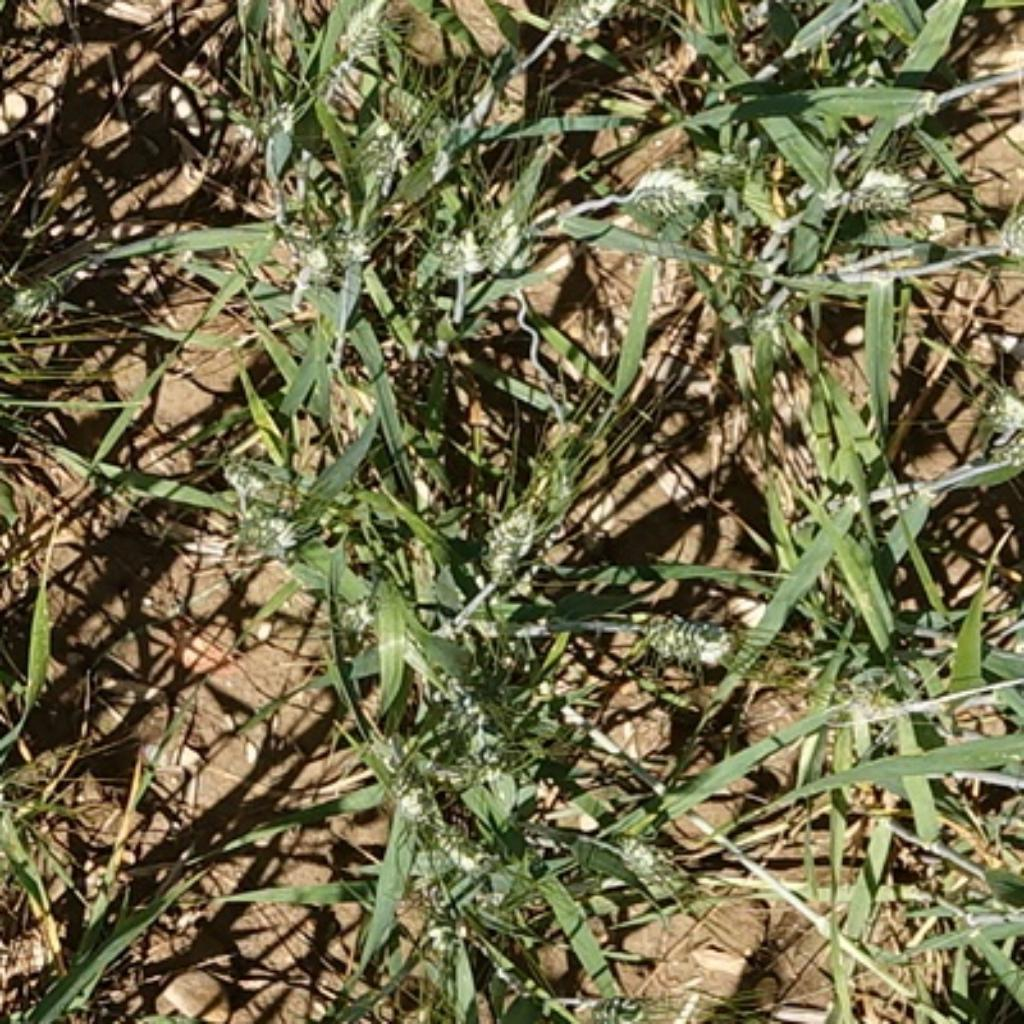0-0: (407, 616, 565, 785), (408, 829, 538, 959), (211, 446, 326, 574), (527, 0, 665, 58), (340, 714, 435, 798), (343, 99, 422, 192), (483, 184, 540, 309), (473, 499, 547, 593), (638, 612, 745, 676), (614, 153, 711, 222), (819, 148, 916, 217), (437, 192, 491, 309), (217, 81, 302, 153), (606, 821, 686, 890), (0, 271, 85, 325), (332, 583, 394, 657), (274, 232, 337, 299), (330, 0, 399, 58), (973, 381, 1024, 440), (326, 217, 377, 275), (972, 209, 1024, 263), (0, 962, 2, 1024)
